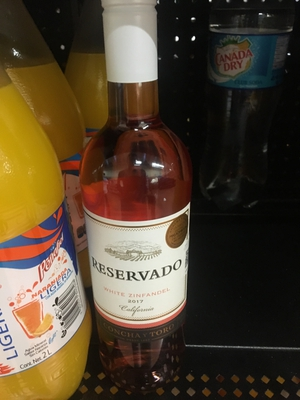reservado white zinfandel: (78, 6, 210, 376)
